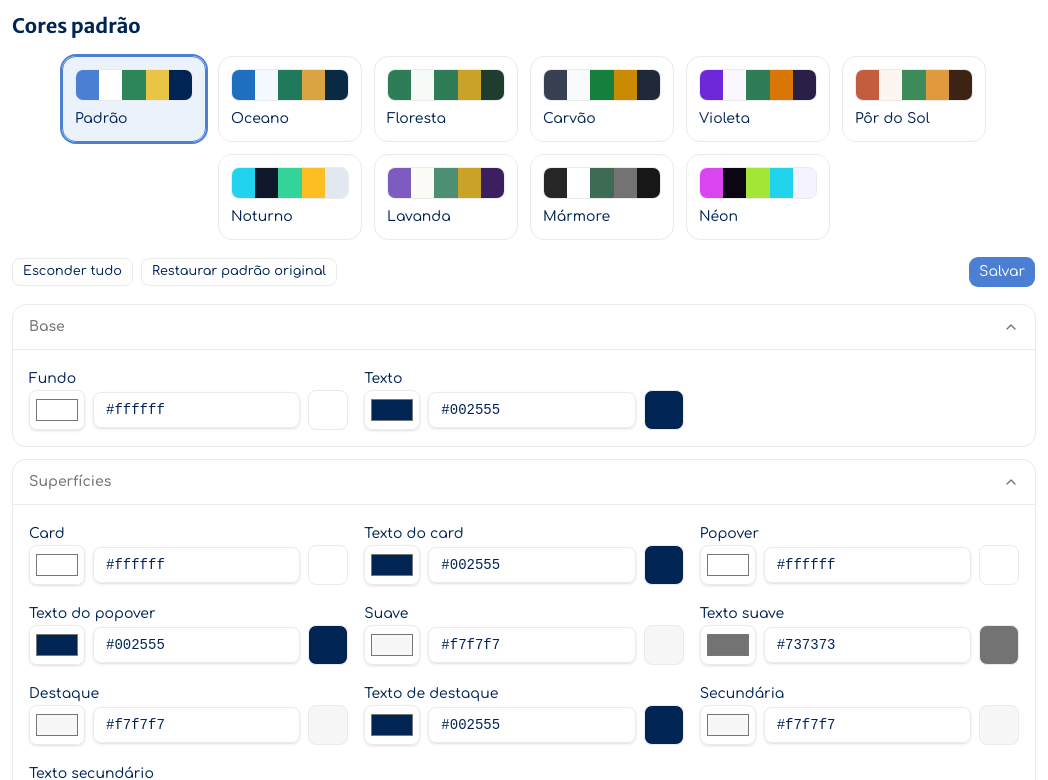
Scenario: DefaultColorsSection › applies the midnight preset tokens without saving
Step 1. Click the button "Noturno" → (290, 197), box [218,154,362,240]
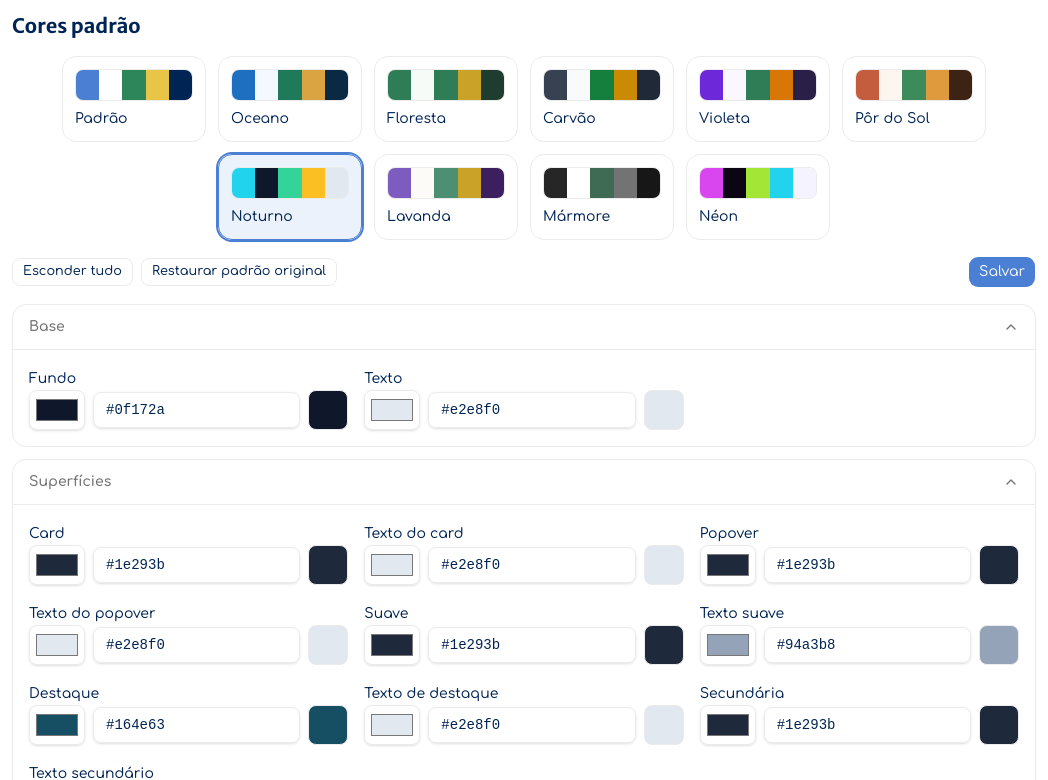
Expected: the colour field with id "semantic-token-background" holds "#0f172a", [29,390,85,430]
